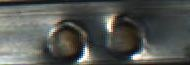joints: (102, 10, 151, 61), (43, 18, 91, 64)
